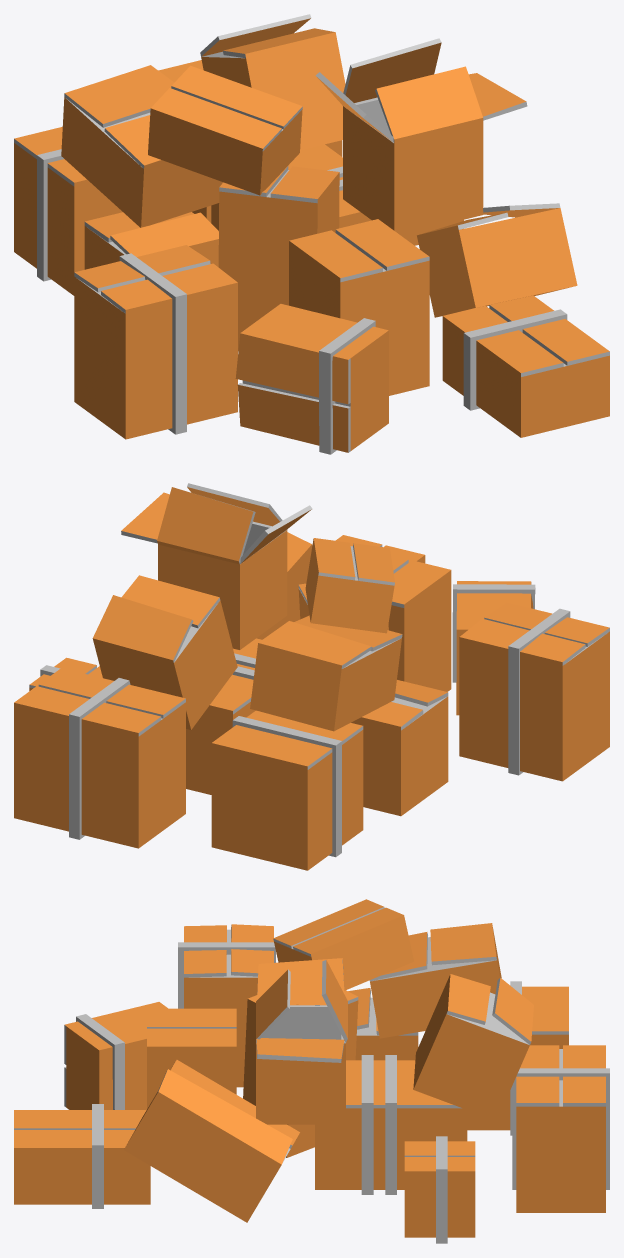
3 renders of one model, top to bottom at view 1: azimuth 30°, elevation 25°; view 2: azimuth 150°, elevation 25°; view 3: azimuth 270°, elevation 25°, orthographic. The views are drawn at different scales.
Visible parts, largest first — view 1: group1550060828, group662699742, group450953391, group687297128, group2058978812, group1858705560, group1784178771, group1310806435, group1685798684, group688949854, group736931780, group1010791721 (+8 smaller); view 2: group540131674, group1550060828, group736931780, group688949854, group2058978812, group306300360, group1784178771, group1858705560, group687297128, group872165803, group1459048230, group662699742 (+9 smaller); view 3: group1310806435, group540131674, group688949854, group450953391, group1459048230, group2058978812, group662699742, group1784178771, group1858705560, group1550060828, group687297128, group562916422 (+12 smaller).
Boxes of the visible parts, <box> form: group1550060828: <box>74,245,237,439</box>; group662699742: <box>235,304,388,454</box>; group450953391: <box>442,295,609,437</box>; group687297128: <box>289,219,429,395</box>; group2058978812: <box>61,65,222,227</box>; group1858705560: <box>148,65,302,195</box>; group1784178771: <box>343,97,483,234</box>; group1310806435: <box>417,203,577,317</box>; group1685798684: <box>218,166,339,350</box>; group688949854: <box>200,14,345,150</box>; group736931780: <box>14,127,122,295</box>; group1010791721: <box>375,66,483,143</box>; group540131674: <box>14,668,185,848</box>; group1550060828: <box>459,602,609,781</box>; group736931780: <box>211,710,363,870</box>; group688949854: <box>92,575,237,729</box>; group2058978812: <box>250,615,402,731</box>; group306300360: <box>351,680,448,816</box>; group1784178771: <box>158,521,287,649</box>; group1858705560: <box>305,538,394,633</box>; group687297128: <box>388,555,451,691</box>; group872165803: <box>157,487,255,564</box>; group1459048230: <box>186,638,261,794</box>; group662699742: <box>452,581,535,715</box>; group1310806435: <box>124,1060,299,1222</box>; group540131674: <box>516,1045,605,1212</box>; group688949854: <box>413,974,533,1120</box>; group450953391: <box>14,1104,150,1208</box>; group1459048230: <box>315,1060,467,1189</box>; group2058978812: <box>369,923,501,1038</box>; group662699742: <box>64,1002,167,1109</box>; group1784178771: <box>256,1005,345,1124</box>; group1858705560: <box>273,899,414,990</box>; group1550060828: <box>184,924,273,1087</box>; group687297128: <box>147,1008,236,1108</box>; group562916422: <box>404,1141,475,1237</box>.
Bounding box in the file's own units: 1.21 × 0.6188 × 1.53.
